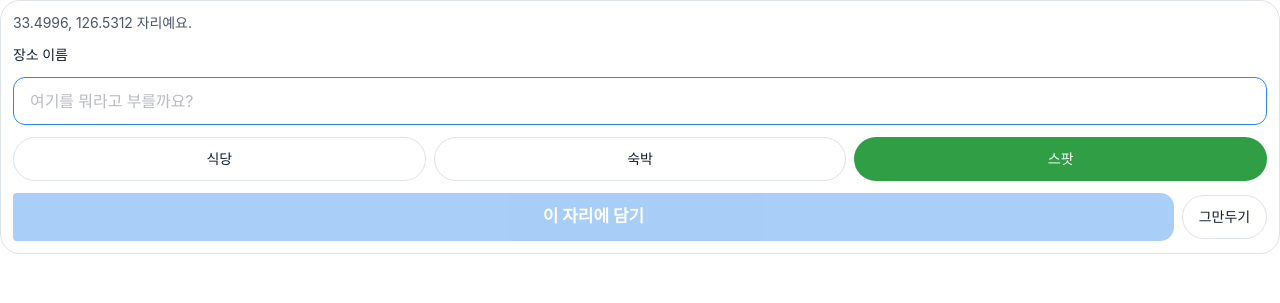
Test: ManualPlaceForm — 이 자리에 담기 (FR-016) › 중복이면 막다른 에러 대신 다음 행동을 준다 (L-06)
Type "성산일출봉" into the field labelled "장소 이름". click: (640, 101)
box: [13, 77, 1267, 125]
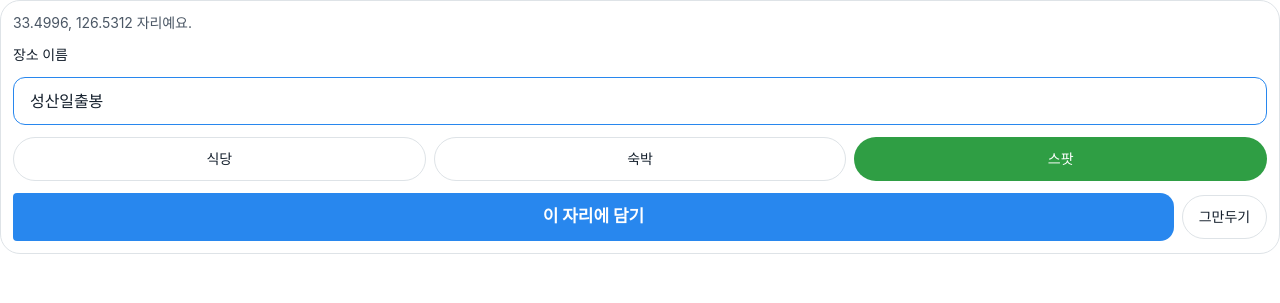
Click the button "이 자리에 담기". click: (593, 217)
box: [13, 193, 1174, 241]
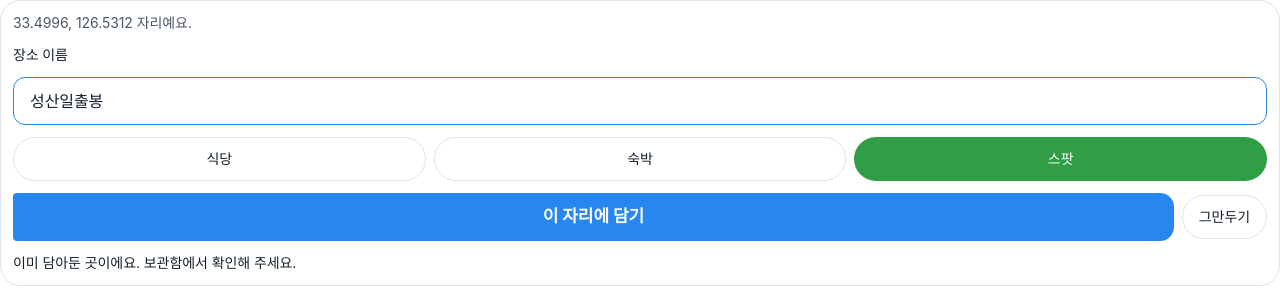
Expected: the message shows "이미 담아둔 곳이에요", [13, 254, 296, 271]
